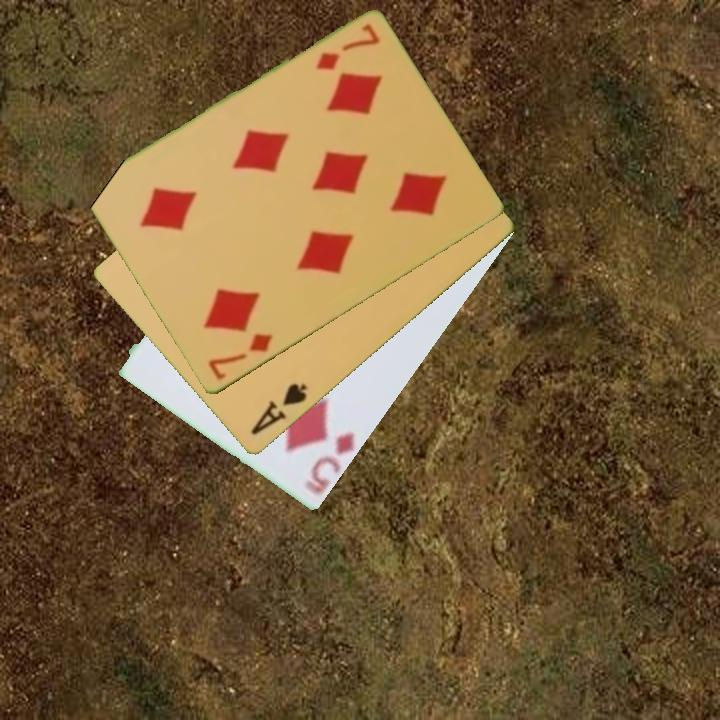5d: (301, 430, 358, 498)
7d: (204, 330, 276, 384), (312, 20, 383, 74)
As: (247, 380, 311, 439)
